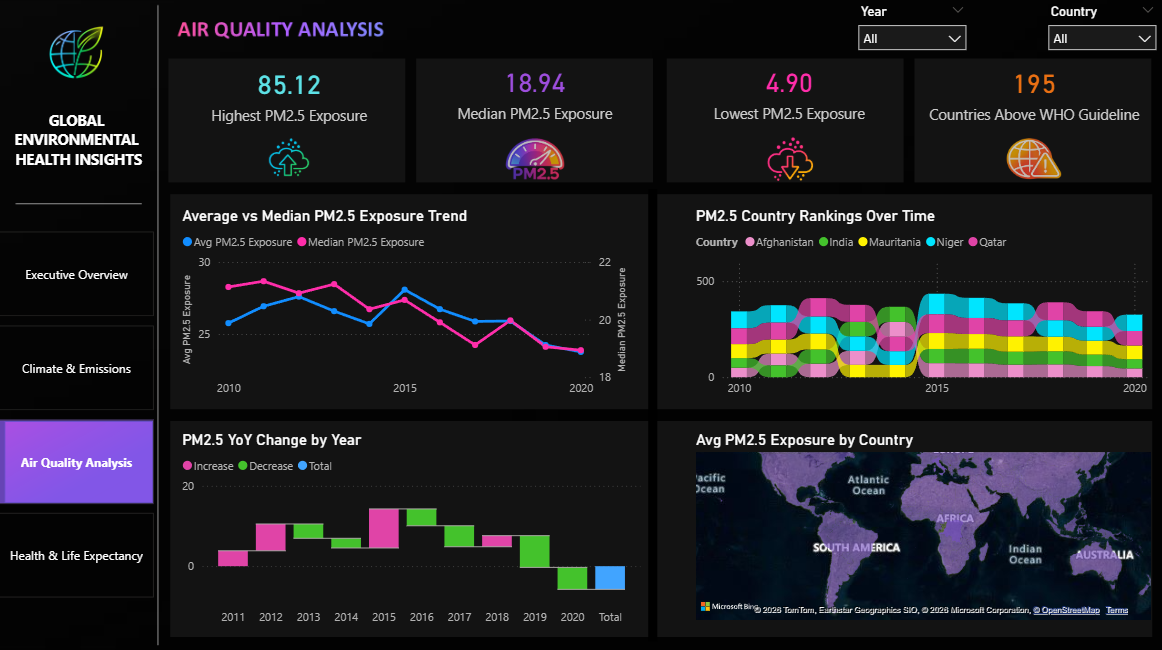

The dashboard page shown, as its layout file describes it:
{"tool":"powerbi","page":{"name":"Air Quality Analysis","canvas":[1280,720],"ordinal":2},"visuals":[{"type":"image","box":[43.9,17.8,82.3,83.7],"z":0},{"type":"textbox","box":[0,116.6,170.2,85.1],"z":1000},{"type":"card","fields":{"Values":["Calculated_Measures.Highest PM2.5 Exposure"]},"box":[197.5,62.5,242.5,81.2],"z":2000},{"type":"image","box":[278.6,149.6,79.6,52.1],"z":3000},{"type":"lineChart","title":"Average vs Median PM2.5 Exposure Trend","fields":{"Y":["Calculated_Measures.Avg PM2.5 Exposure"],"Category":["Date_Table.Year"],"Y2":["Calculated_Measures.Median PM2.5 Exposure"]},"box":[195.6,227.9,498.5,217.6],"z":4000},{"type":"ribbonChart","title":"PM2.5 Country Rankings Over Time","fields":{"Category":["Date_Table.Year"],"Y":["Calculated_Measures.Avg PM2.5 Exposure"],"Series":["Country_Table.Country"]},"box":[760.3,227.9,508.8,217.6],"z":5000},{"type":"filledMap","fields":{"Category":["Country_Table.Country"]},"box":[760.3,473.5,508.8,213.2],"z":6000},{"type":"waterfallChart","fields":{"Category":["Date_Table.Year"],"Y":["Calculated_Measures.PM2.5 YoY Change"]},"box":[195.6,473.5,513.2,223.5],"z":7000},{"type":"pageNavigator","box":[0,255.2,170.2,403.4],"z":8000},{"type":"card","fields":{"Values":["Calculated_Measures.Median PM2.5 Exposure"]},"box":[466.2,60,243.8,81.2],"z":9000},{"type":"card","fields":{"Values":["Calculated_Measures.Lowest PM2.5 Exposure"]},"box":[746.2,60,242.5,81.2],"z":10000},{"type":"card","fields":{"Values":["Calculated_Measures.Countries Above WHO Guideline"]},"box":[1015,62.5,242.5,78.8],"z":11000},{"type":"image","box":[548.9,149.6,79.6,52.1],"z":12000},{"type":"image","box":[828.8,149.6,79.6,52.1],"z":13000},{"type":"image","box":[1096.4,149.6,79.6,52.1],"z":14000},{"type":"slicer","fields":{"Values":["Date_Table.Year"]},"box":[933.8,0,138.8,62.5],"z":15000},{"type":"slicer","fields":{"Values":["Country_Table.Country"]},"box":[1141.2,0,138.8,60],"z":16000},{"type":"shape","box":[709.4,208.6,16.5,496.7],"z":17000}]}

Visuals, with their boxes on the page's 1280x720 design canvas (x1, y1, x2, y2). These are canvas units, not pixel positions in the 1162x650 screenshot, which may show the page scaled, cropped or inside an application window:
image: (left=44, top=18, right=126, bottom=102)
textbox: (left=0, top=117, right=170, bottom=202)
card - Calculated_Measures.Highest PM2.5 Exposure: (left=198, top=62, right=440, bottom=144)
image: (left=279, top=150, right=358, bottom=202)
"Average vs Median PM2.5 Exposure Trend" lineChart: (left=196, top=228, right=694, bottom=446)
"PM2.5 Country Rankings Over Time" ribbonChart: (left=760, top=228, right=1269, bottom=446)
filledMap - Country_Table.Country: (left=760, top=474, right=1269, bottom=687)
waterfallChart - Date_Table.Year x Calculated_Measures.PM2.5 YoY Change: (left=196, top=474, right=709, bottom=697)
pageNavigator: (left=0, top=255, right=170, bottom=659)
card - Calculated_Measures.Median PM2.5 Exposure: (left=466, top=60, right=710, bottom=141)
card - Calculated_Measures.Lowest PM2.5 Exposure: (left=746, top=60, right=989, bottom=141)
card - Calculated_Measures.Countries Above WHO Guideline: (left=1015, top=62, right=1258, bottom=141)
image: (left=549, top=150, right=628, bottom=202)
image: (left=829, top=150, right=908, bottom=202)
image: (left=1096, top=150, right=1176, bottom=202)
slicer - Date_Table.Year: (left=934, top=0, right=1073, bottom=62)
slicer - Country_Table.Country: (left=1141, top=0, right=1280, bottom=60)
shape: (left=709, top=209, right=726, bottom=705)
